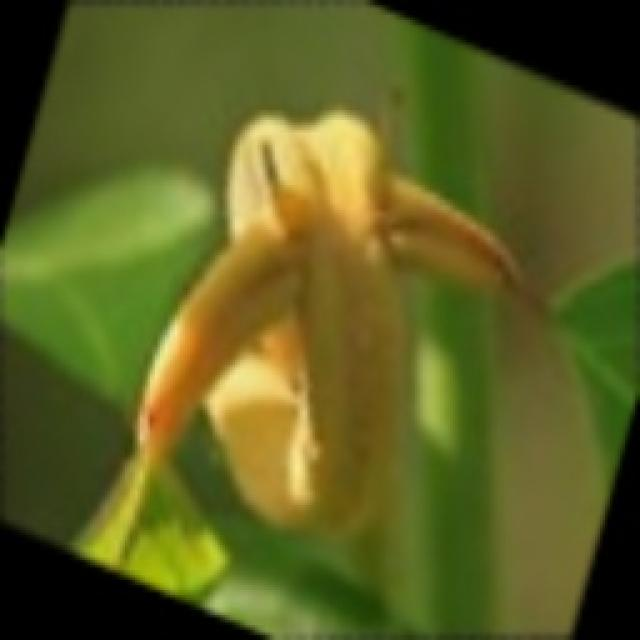Elderberry_rust: (176, 107, 474, 525)
